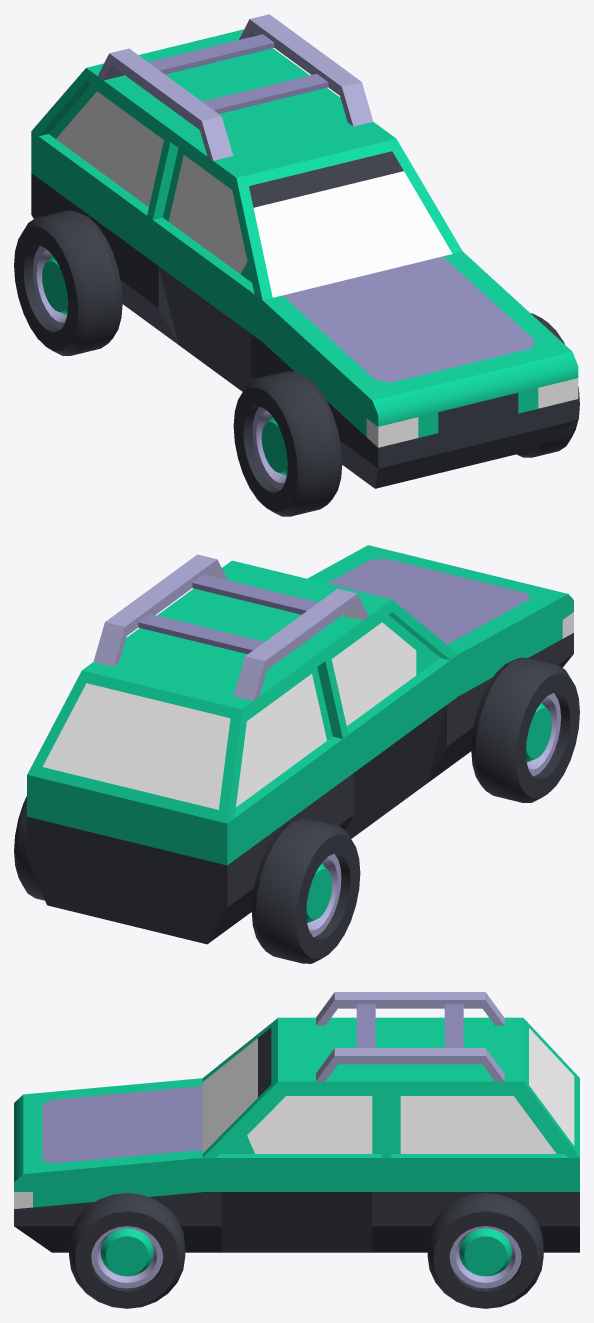
The model's file is Car.fbx.
3 views of the same model, one above another, from view 1: azimuth 30°, elevation 25°; view 2: azimuth 150°, elevation 25°; view 3: azimuth 270°, elevation 25° (orthographic). The views are drawn at different scales.
Visible parts, largest first — view 1: body_frontStandard, body_topStandard, wheel_classic (×3), body_topBackStation, body_edge, detail_railDouble%, body_standard; view 2: body_topBackStation, body_standard, wheel_classic (×3), body_frontStandard, body_topStandard, body_edge, detail_railDouble%; view 3: body_frontStandard, body_topStandard, body_topBackStation, wheel_classic (×2), body_edge, body_standard, detail_railDouble%.
Boxes of the visible parts, x1,y1,x2,y2 form: body_frontStandard: (262, 251, 578, 488); body_topStandard: (147, 88, 462, 300); wheel_classic (×3): (14, 210, 579, 516); body_topBackStation: (32, 29, 325, 206); body_edge: (147, 216, 262, 391); detail_railDouble%: (98, 14, 373, 160); body_standard: (31, 131, 166, 335); body_topBackStation: (27, 611, 332, 823); body_standard: (27, 736, 342, 944); wheel_classic (×3): (14, 657, 579, 963); body_frontStandard: (307, 545, 573, 774); body_topStandard: (163, 560, 458, 738); body_edge: (341, 654, 458, 838); detail_railDouble%: (93, 554, 368, 700); body_frontStandard: (14, 1078, 202, 1252); body_topStandard: (202, 1017, 391, 1157); body_topBackStation: (391, 1017, 579, 1157); wheel_classic (×2): (69, 1193, 543, 1308); body_edge: (202, 1154, 391, 1252); body_standard: (391, 1154, 579, 1252); detail_railDouble%: (316, 992, 504, 1081).
Bounding box in the file's own units: 14.11 × 13.58 × 30.
